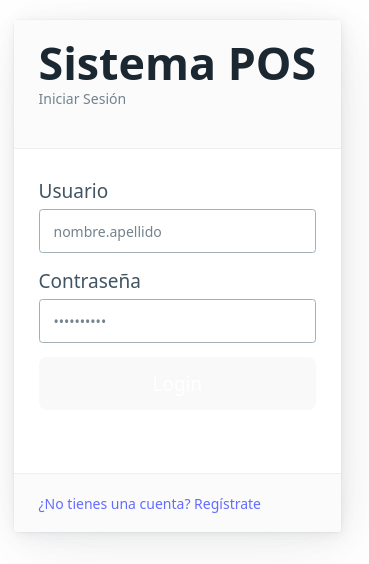
Test: AuthPage › should switch to the register form when the link is clicked
Click the link "¿No tienes una cuenta? Regístrate": [150, 504] box left=38, top=494, right=261, bottom=513
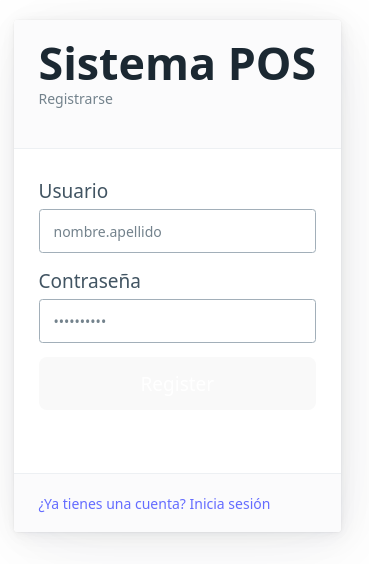
Result: the heading "Registrarse" is shown at left=38, top=89, right=113, bottom=108
